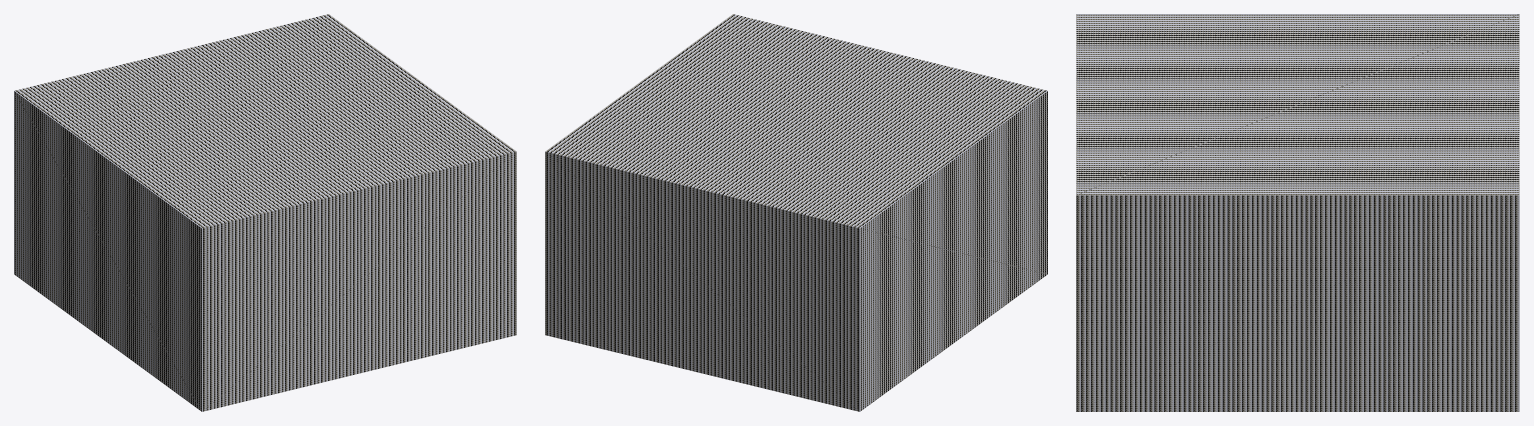
File: Intro15_brush.glb
3 renders of one model, left to right at view 1: azimuth 30°, elevation 25°; view 2: azimuth 150°, elevation 25°; view 3: azimuth 270°, elevation 25°, orthographic. The views are drawn at different scales.
Visible parts, largest first — view 1: Intro15; view 2: Intro15; view 3: Intro15.
Part boxes in pixels (bbox=[...]): Intro15: bbox=[14, 14, 516, 411]; Intro15: bbox=[545, 14, 1047, 411]; Intro15: bbox=[1076, 14, 1519, 411].
Bounding box in the file's own units: 22538 × 12557 × 23301.
3 materials, 3 textured.
